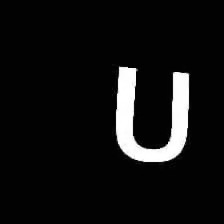LTR_U: (106, 58, 196, 170)
